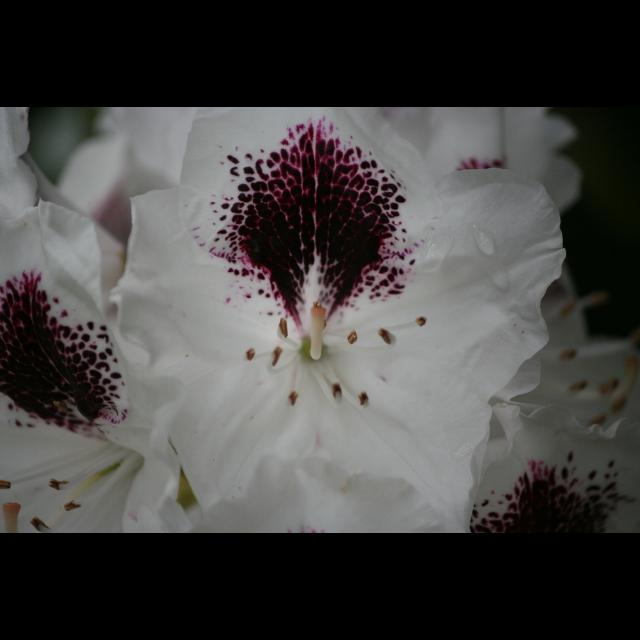Flower: (34, 131, 596, 534)
